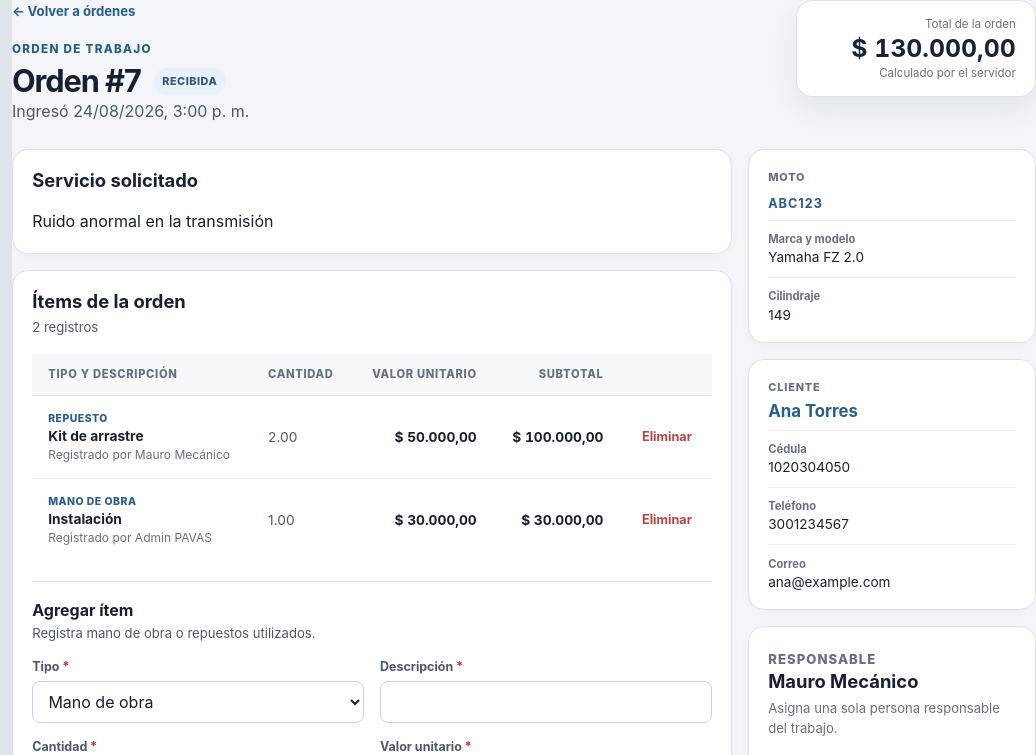
Test: WorkOrderDetailPage › surfaces a stale closed-order conflict from an item mutation
Expected: the heading "Orden #7" is shown, [12, 64, 141, 99]
Type "Revisión tardía" into the field labelled "Descripción *". click: [546, 702]
box: [380, 681, 712, 723]
(page scrolled)
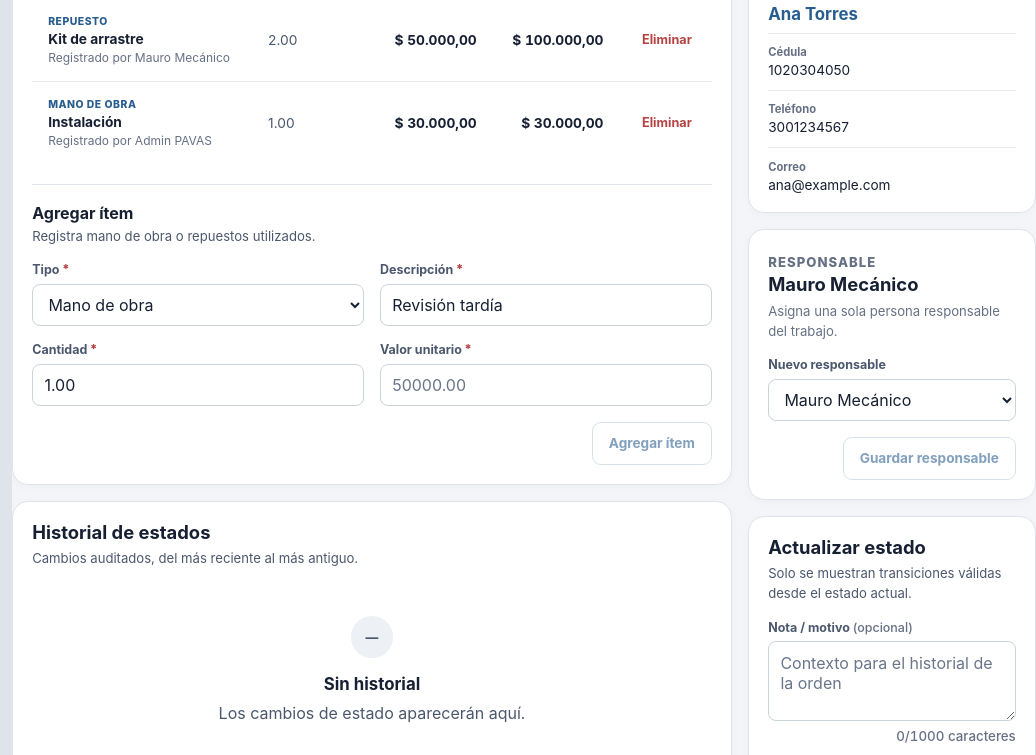
Type "100.00" into the field labelled "Valor unitario *". click: [546, 385]
box: [380, 364, 712, 406]
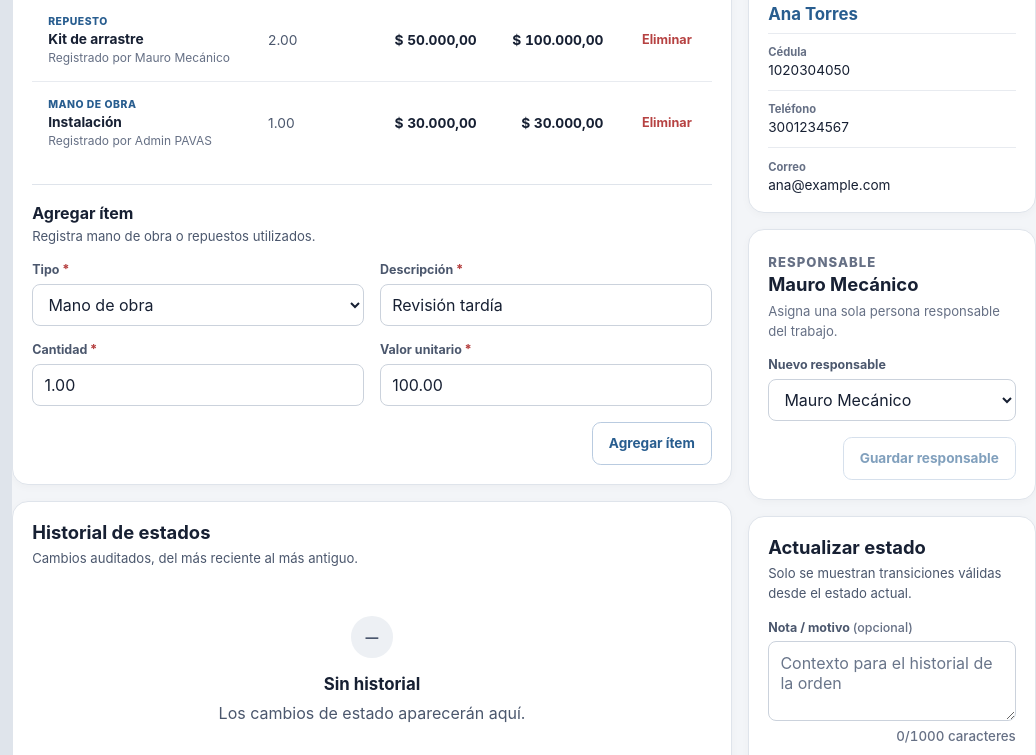
Click the button "Agregar ítem". click: [652, 443]
box: [592, 422, 712, 464]
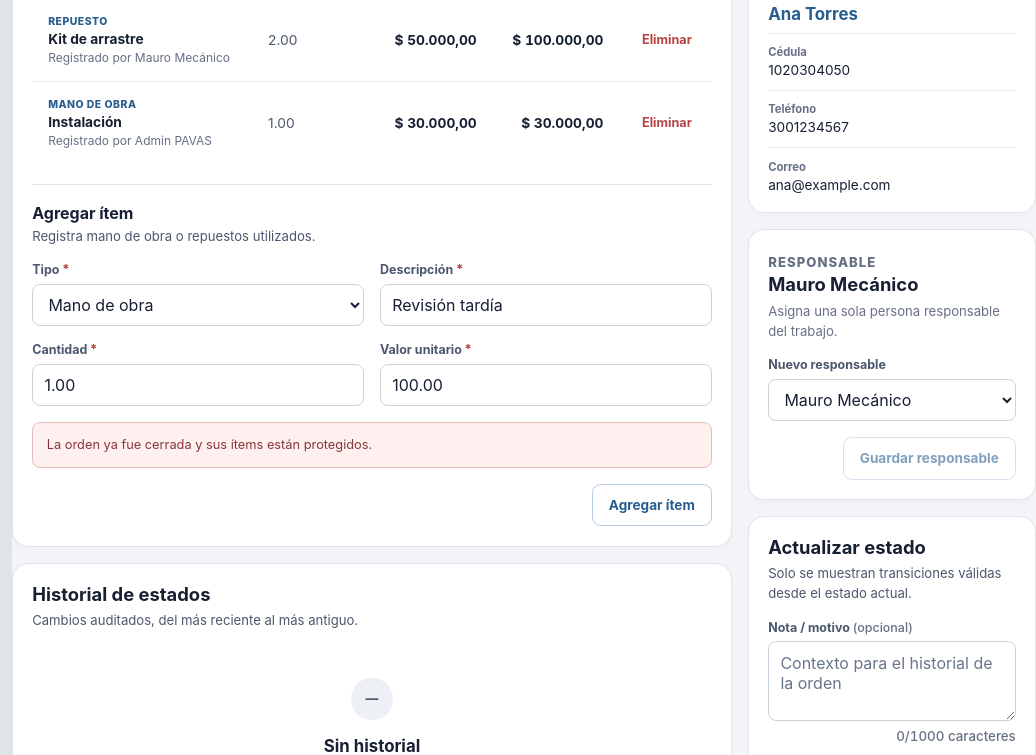
Result: the message reads "La orden ya fue cerrada y sus ítems están protegidos." at [47, 437, 372, 452]
